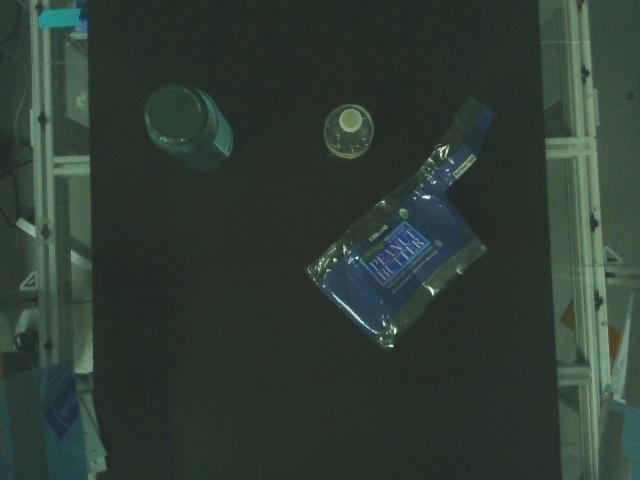glass: (144, 81, 235, 174)
plastic: (301, 94, 498, 355), (321, 102, 377, 161)
